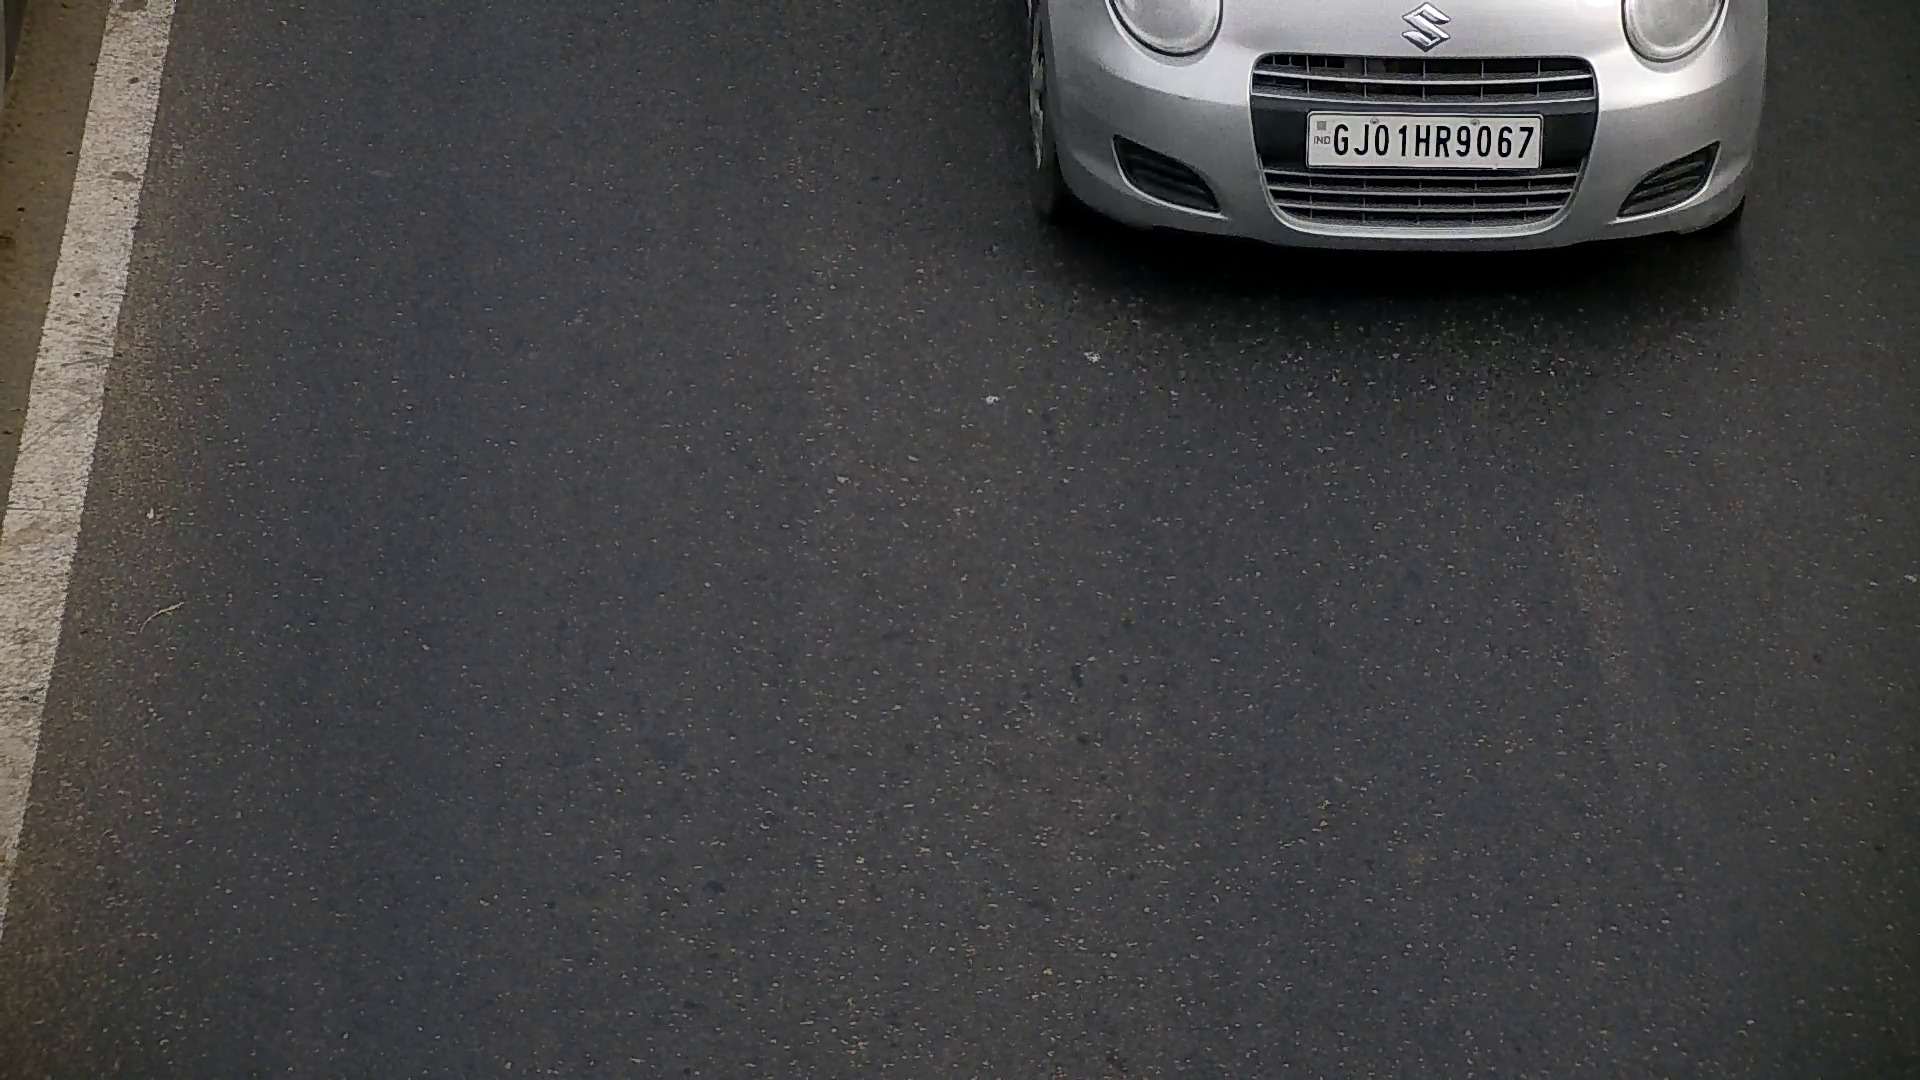numberplate: (1300, 110, 1546, 172)
